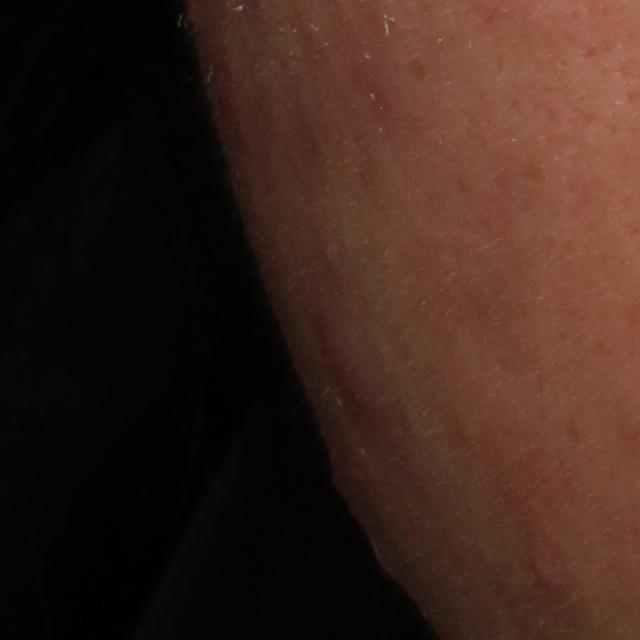papule: (318, 322, 397, 438), (530, 543, 563, 594)
